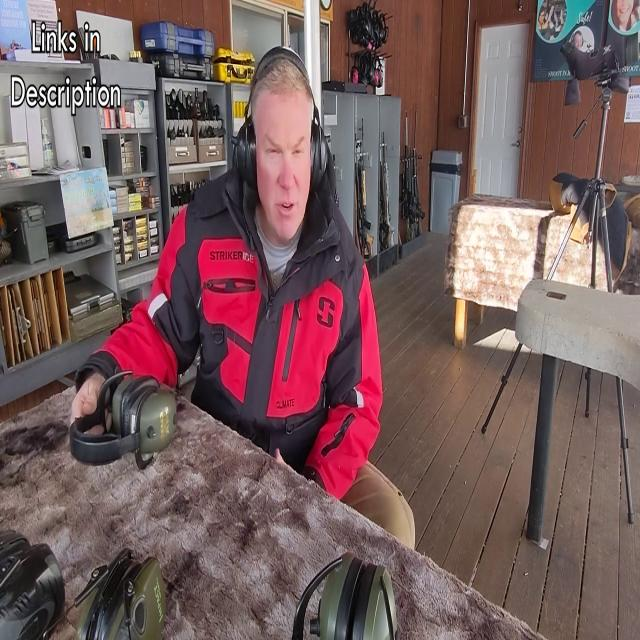earmuff: (233, 111, 261, 194), (304, 115, 334, 189)
